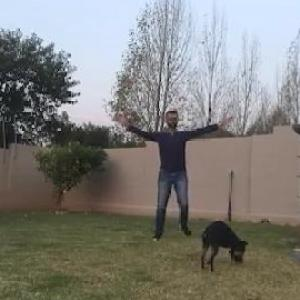takeoff: (120, 107, 243, 247)
